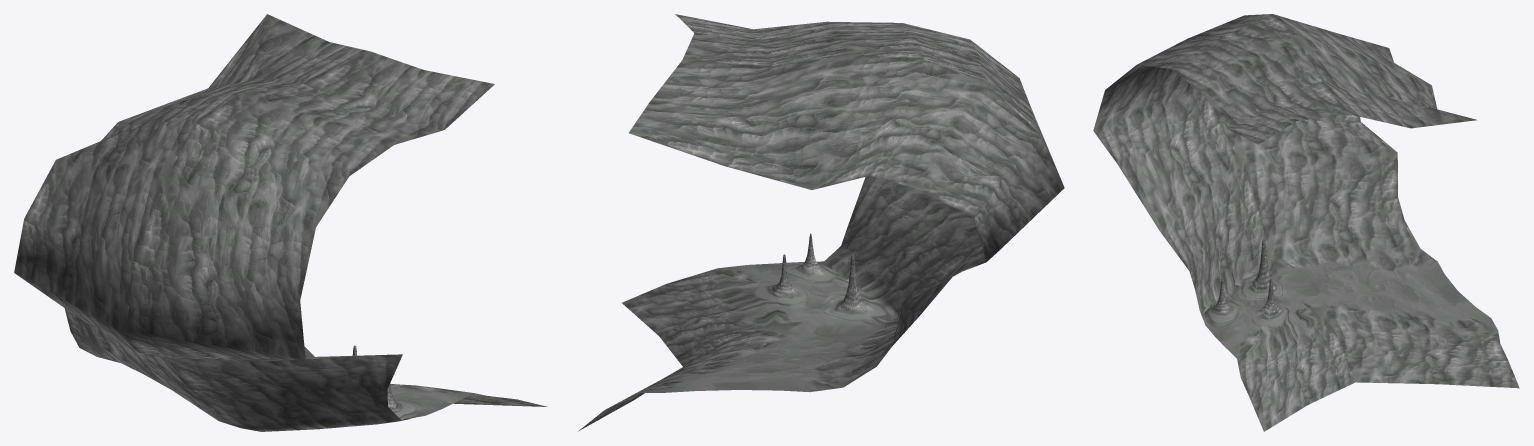
File: SWORDLIGHT20_PS-AREA05_04.fbx
3 views of the same model, side by side, from view 1: azimuth 30°, elevation 25°; view 2: azimuth 150°, elevation 25°; view 3: azimuth 270°, elevation 25° (orthographic). The views are drawn at different scales.
Parts seen in each view (by area): view 1: SWORDLIGHT20_PS-AREA05_04; view 2: SWORDLIGHT20_PS-AREA05_04; view 3: SWORDLIGHT20_PS-AREA05_04.
Boxes of the visible parts, x1,y1,x2,y2 form: SWORDLIGHT20_PS-AREA05_04: [14, 14, 547, 431]; SWORDLIGHT20_PS-AREA05_04: [578, 14, 1064, 431]; SWORDLIGHT20_PS-AREA05_04: [1093, 14, 1519, 431].
Bounding box in the file's own units: 204066 × 150620 × 203094.
5 materials, 5 textured.
